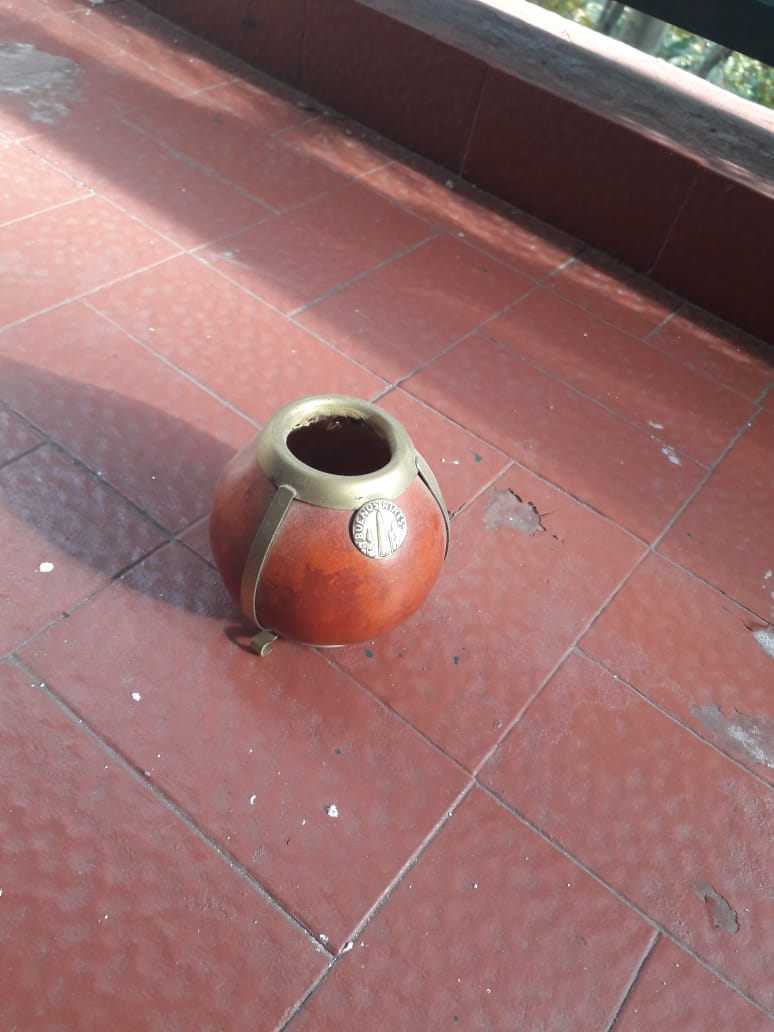calabaza: (203, 394, 453, 654)
mate: (205, 396, 455, 656)
